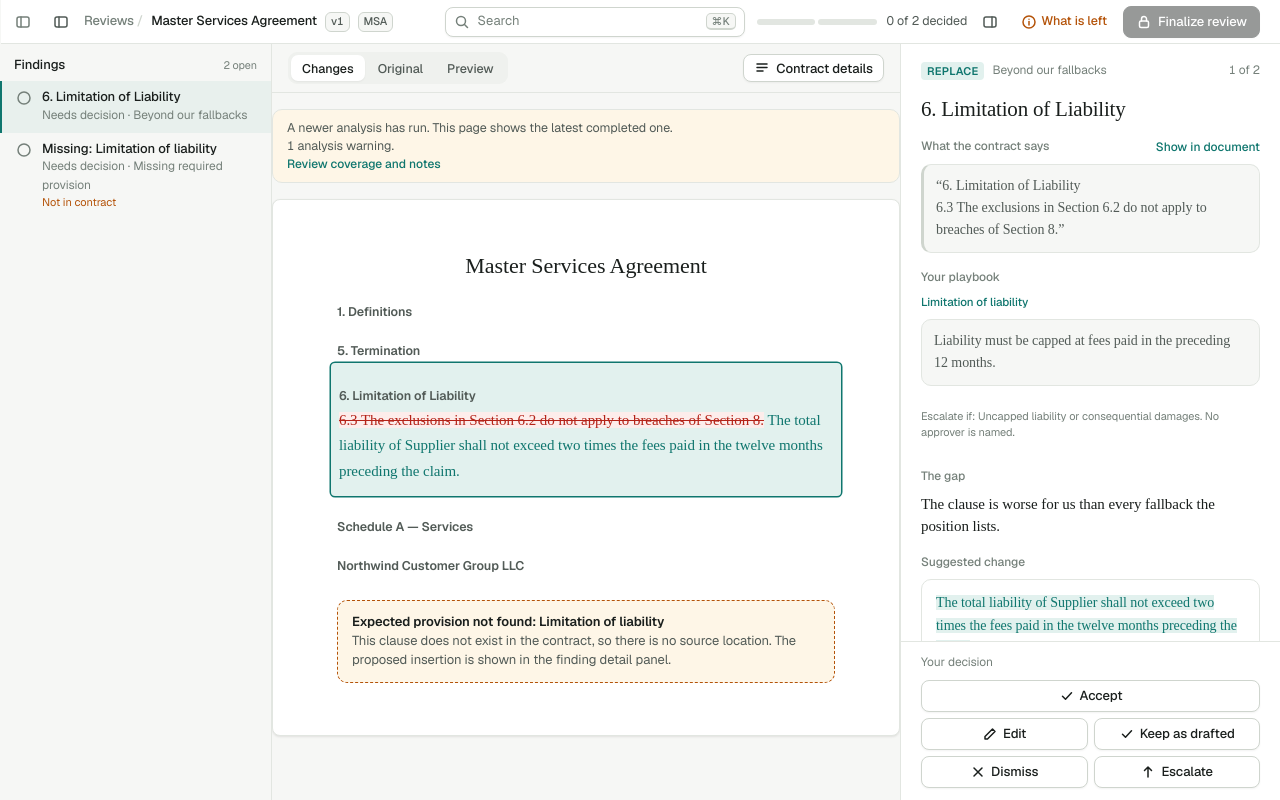
Scenario: workspace layout › draws a finding about a missing provision as a card with no invented location
expect the text "Expected provision not found: Limitation of liability" is shown: met, box [352,614,664,630]
Click the tab "Original": (400, 68) [367,55,434,81]
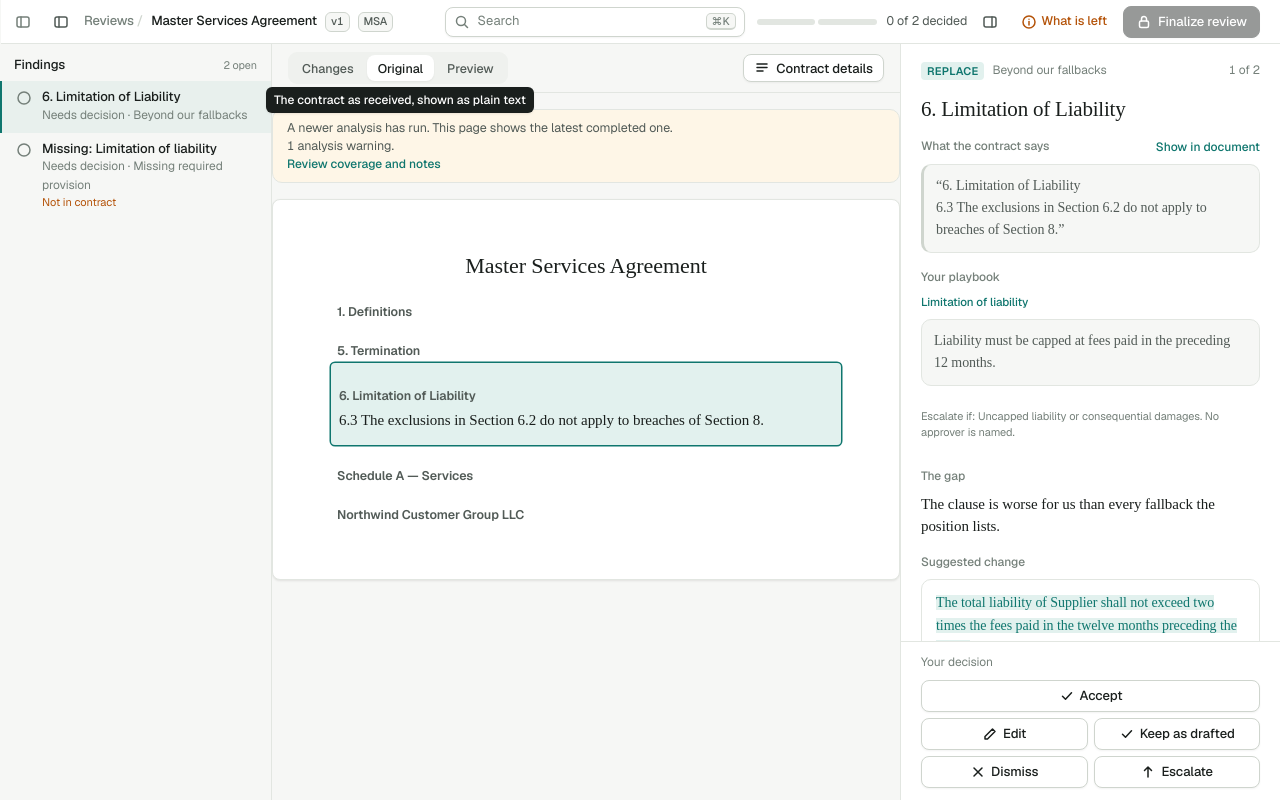
expect the text "Expected provision not found" is gone: met
